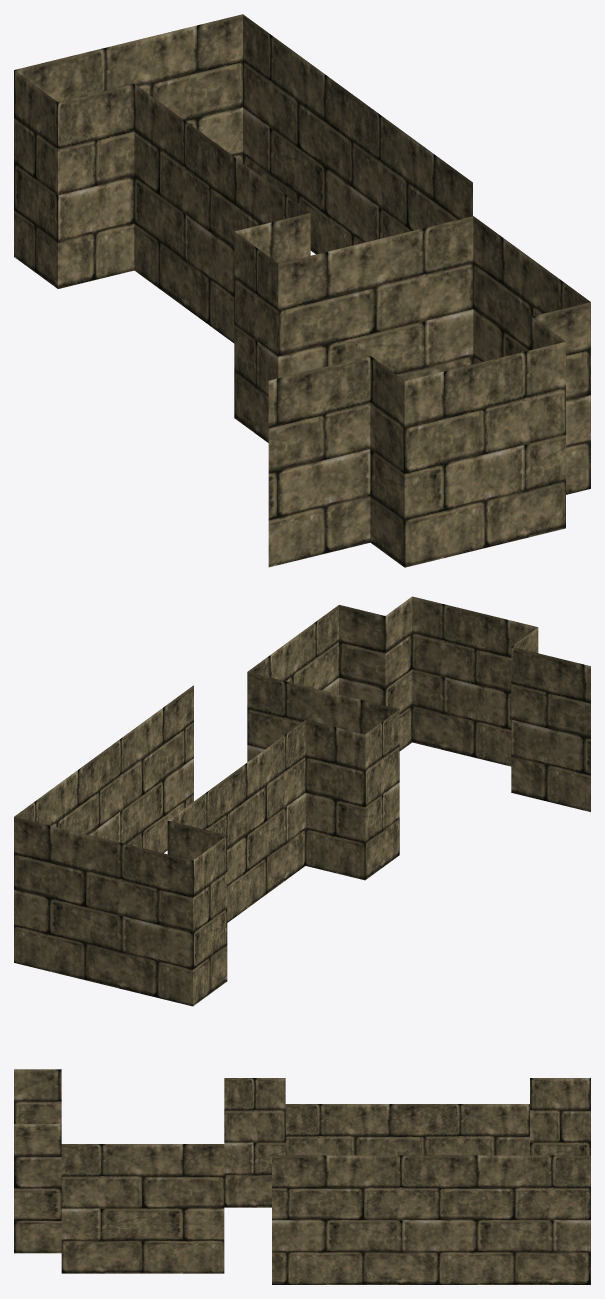
Rendered from OVERHILL_A_01_LINE150.fbx.
The picture shows the model from 3 angles, top to bottom: view 1: azimuth 30°, elevation 25°; view 2: azimuth 150°, elevation 25°; view 3: azimuth 270°, elevation 25°; orthographic projection. The views are drawn at different scales.
Parts seen in each view (by area): view 1: OVERHILL_A_01_LINE150; view 2: OVERHILL_A_01_LINE150; view 3: OVERHILL_A_01_LINE150.
Boxes of the visible parts, x1,y1,x2,y2 form: OVERHILL_A_01_LINE150: (14,14,590,567); OVERHILL_A_01_LINE150: (14,596,590,1006); OVERHILL_A_01_LINE150: (14,1069,590,1284).
Bounding box in the file's own units: 42000 × 21050 × 85000.
1 material, 1 textured.
